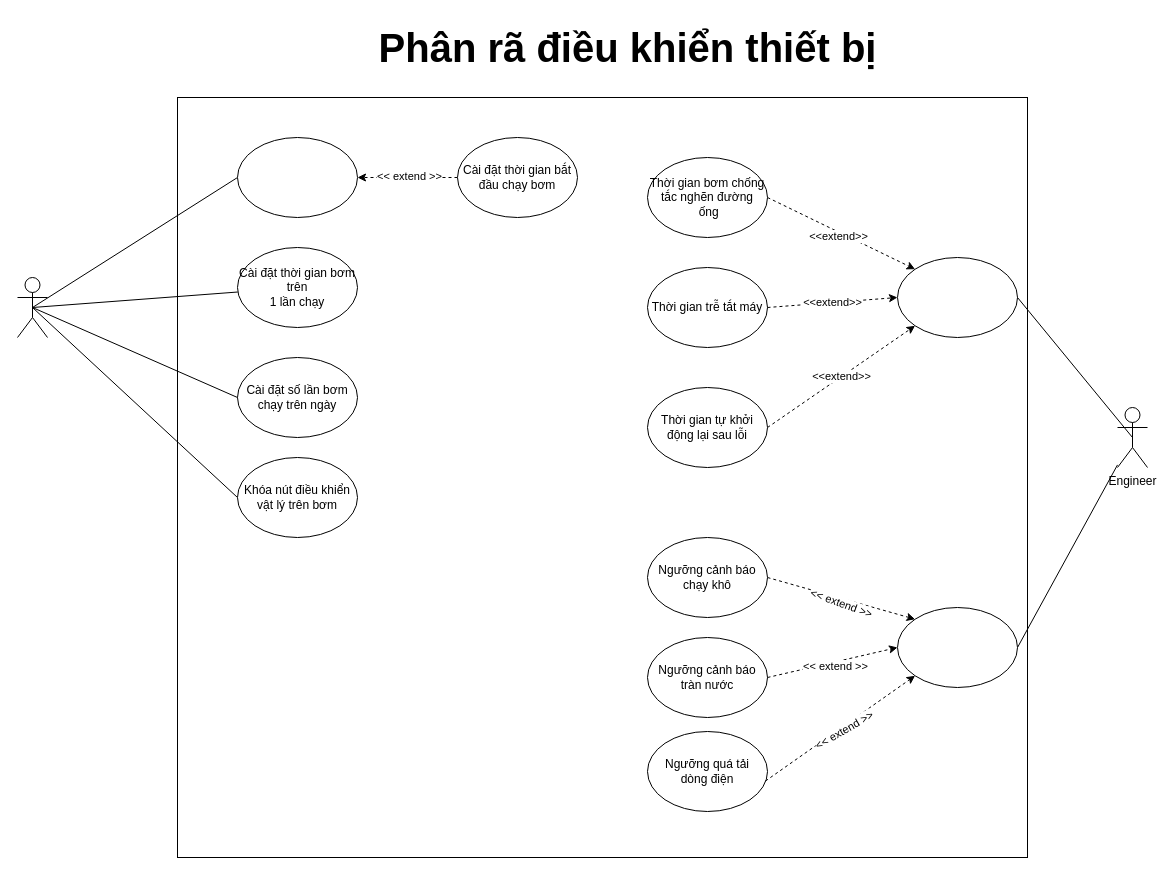
Some shapes in this 1174 by 875 pixel diagram are drawn without their labels. The shapes that lost their labels are listed below. From the top down, each one's centre as x and y in pixels, then its label:
At point (297, 177): "Cài đặt mode khởi động bơm".
At point (32, 307): "User".
At point (957, 297): "Điều chỉnh thời gian tổng quan".
At point (957, 647): "Cài đặt ngưỡng cảnh báo cho bơm".
